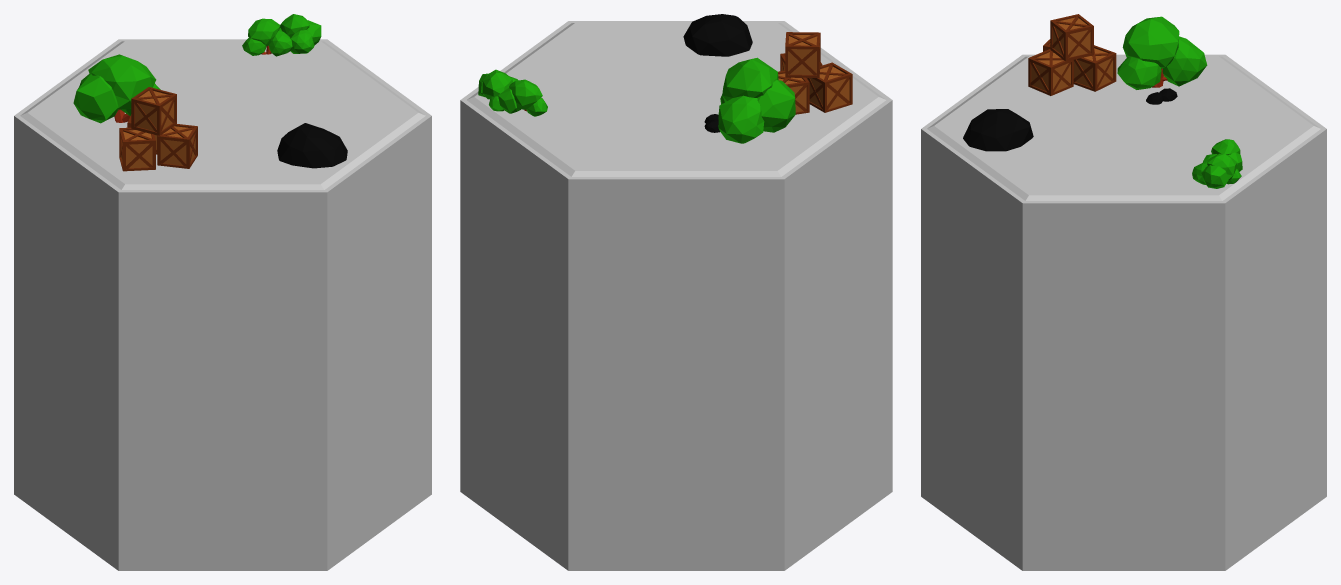
Rendered from HEXboxAndBush.obj.
The picture shows the model from 3 angles, left to right: view 1: azimuth 30°, elevation 25°; view 2: azimuth 150°, elevation 25°; view 3: azimuth 270°, elevation 25°; orthographic projection. The views are drawn at different scales.
Parts seen in each view (by area): view 1: Cylinder.006_Cylinder.007, Icosphere.003_Icosphere.007, Icosphere.005_Icosphere.008, Cube.012, Cube.014, Cube.013, Icosphere.008_Icosphere.011, Icosphere.009_Icosphere.012; view 2: Cylinder.006_Cylinder.007, Icosphere.003_Icosphere.007, Icosphere.005_Icosphere.008, Cube.013, Cube.012, Icosphere.008_Icosphere.011, Icosphere.009_Icosphere.012, Cube.011; view 3: Cylinder.006_Cylinder.007, Icosphere.003_Icosphere.007, Icosphere.005_Icosphere.008, Cube.012, Cube.014, Cube.011, Icosphere.009_Icosphere.012, Icosphere.008_Icosphere.011.
Part boxes in pixels (x1,y1,x2,y2): Cylinder.006_Cylinder.007: (14, 39, 431, 570); Icosphere.003_Icosphere.007: (73, 54, 160, 123); Icosphere.005_Icosphere.008: (277, 123, 347, 168); Cube.012: (131, 87, 176, 135); Cube.014: (157, 124, 197, 168); Cube.013: (119, 127, 155, 171); Icosphere.008_Icosphere.011: (242, 18, 292, 56); Icosphere.009_Icosphere.012: (280, 14, 321, 53); Cylinder.006_Cylinder.007: (460, 21, 892, 570); Icosphere.003_Icosphere.007: (718, 57, 795, 143); Icosphere.005_Icosphere.008: (683, 14, 752, 56); Cube.013: (806, 62, 852, 112); Cube.012: (785, 32, 820, 77); Icosphere.008_Icosphere.011: (498, 79, 547, 116); Icosphere.009_Icosphere.012: (478, 69, 518, 111); Cube.011: (778, 70, 809, 114); Cylinder.006_Cylinder.007: (921, 54, 1326, 570); Icosphere.003_Icosphere.007: (1117, 16, 1207, 89); Icosphere.005_Icosphere.008: (963, 109, 1033, 151); Cube.012: (1050, 14, 1093, 61); Cube.014: (1028, 49, 1073, 95); Cube.011: (1073, 45, 1116, 91); Icosphere.009_Icosphere.012: (1192, 153, 1241, 188); Icosphere.008_Icosphere.011: (1203, 139, 1242, 171).
Bounding box in the file's own units: 2.3 × 3.15 × 2.66.
